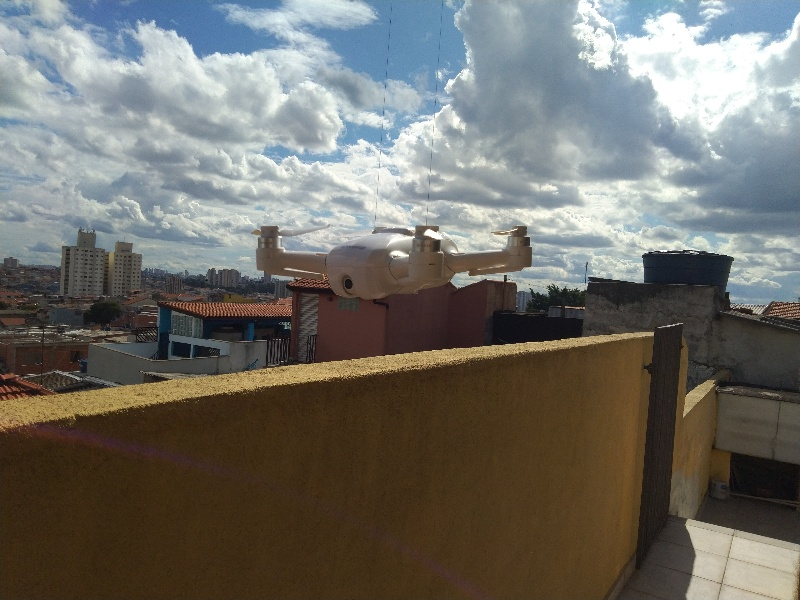drone: (248, 208, 542, 301)
